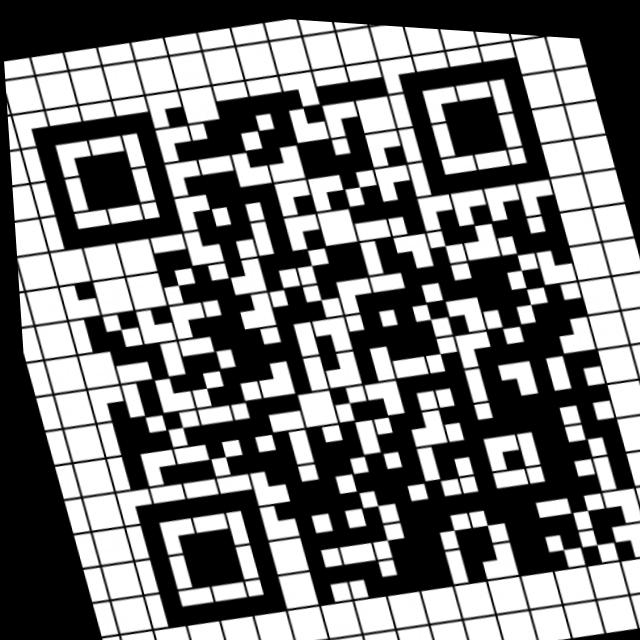QR_CODE: (0, 2, 640, 640)
